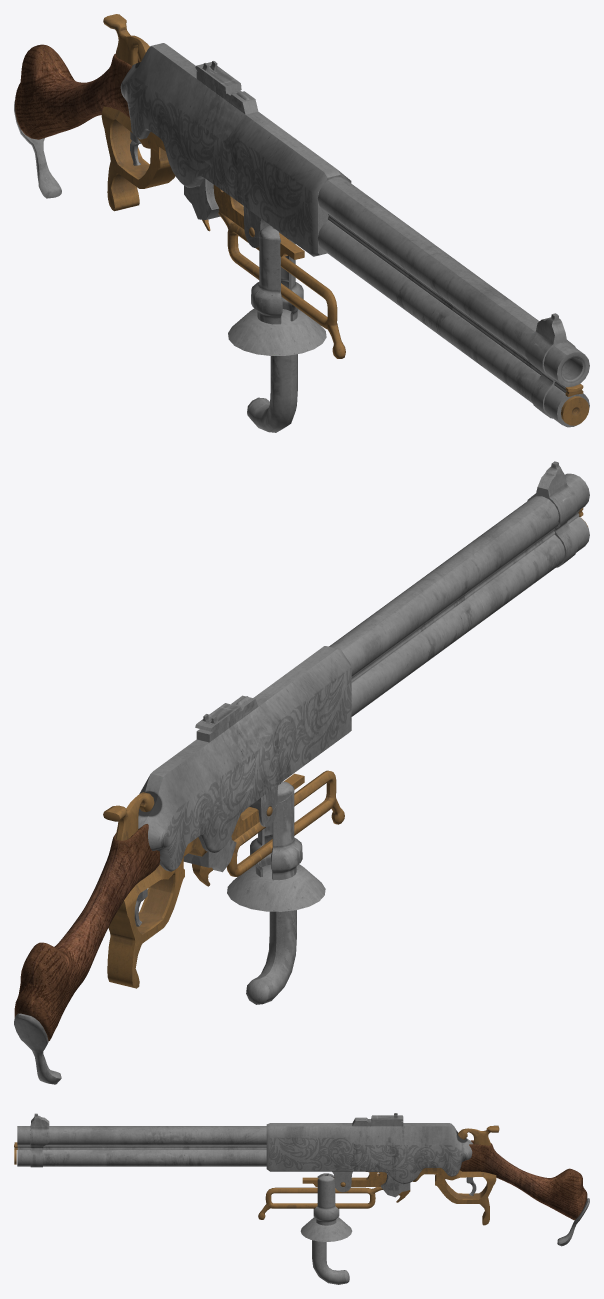
The model's file is keith_thomson_rifle.glb.
3 views of the same model, one above another, from view 1: azimuth 30°, elevation 25°; view 2: azimuth 150°, elevation 25°; view 3: azimuth 270°, elevation 25° (orthographic). The views are drawn at different scales.
Visible parts, largest first — view 1: g (×20); view 2: g (×14); view 3: g (×18).
Part boxes in pixels (x1,y1,x2,y2): g (×20): (14,14,589,432); g (×14): (14,461,589,1084); g (×18): (17,1113,589,1284).
Size of the model in its own units: 0.1605 by 0.5825 by 1.79.
2 materials, 2 textured.
